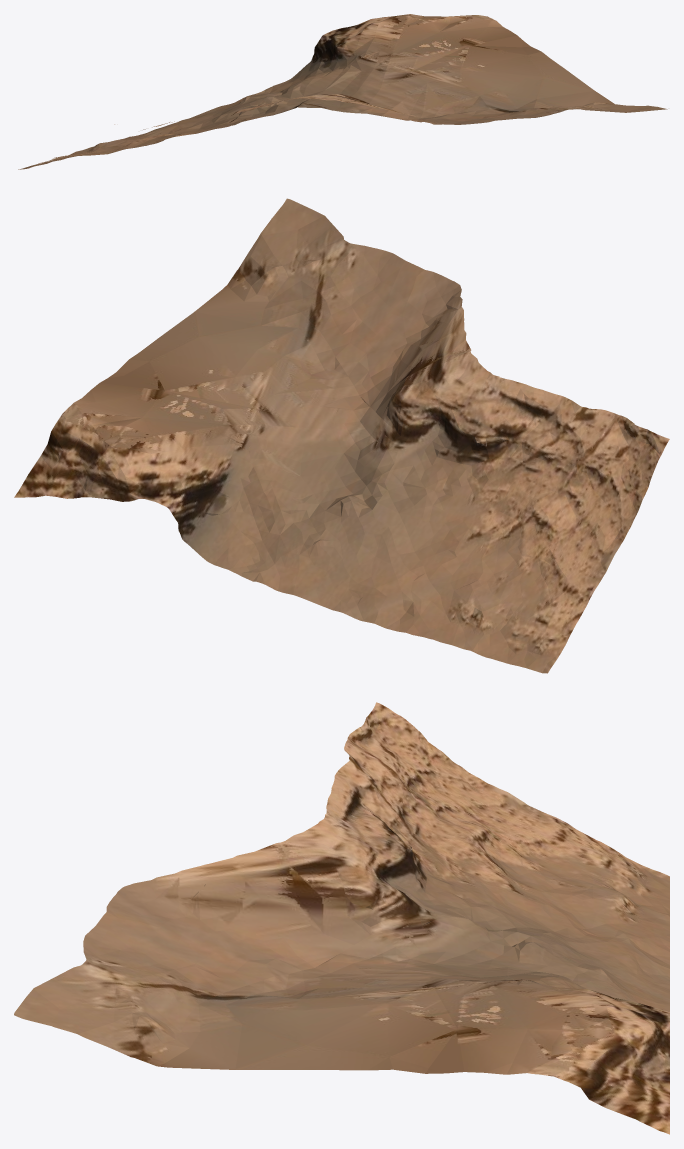
3 views of the same model, one above another, from view 1: azimuth 30°, elevation 25°; view 2: azimuth 150°, elevation 25°; view 3: azimuth 270°, elevation 25° (orthographic). The views are drawn at different scales.
Bounding box in the file's own units: 1.04 × 0.273 × 0.9251.
Materials: 2 (2 with a texture image).
